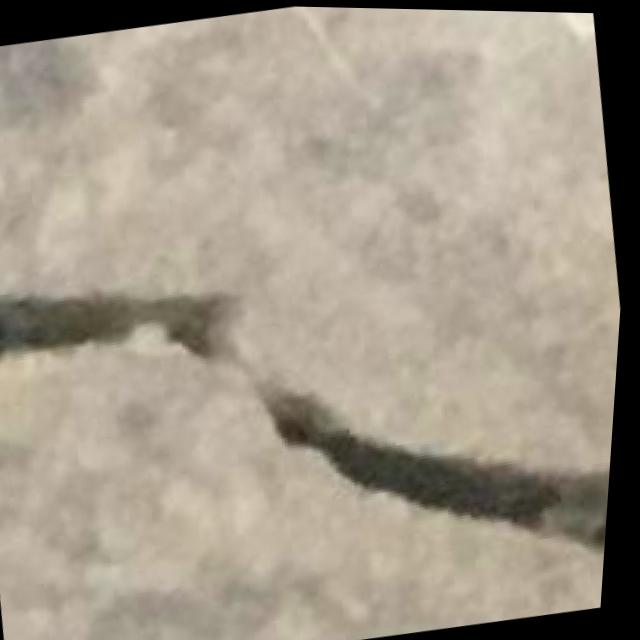Crack: (0, 187, 630, 640)
